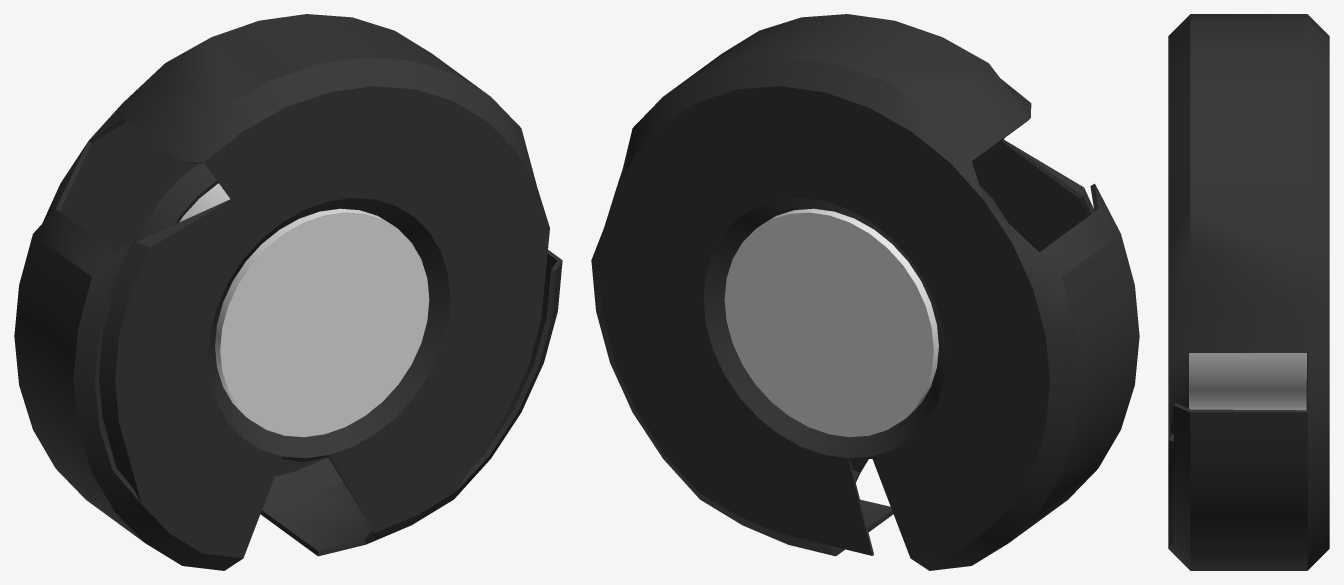
File: Broken Wheel.fbx
3 views of the same model, side by side, from view 1: azimuth 30°, elevation 25°; view 2: azimuth 150°, elevation 25°; view 3: azimuth 270°, elevation 25° (orthographic).
Parts seen in each view (by area): view 1: Velg.Broken; view 2: Velg.Broken; view 3: Velg.Broken.
Boxes of the visible parts, x1,y1,x2,y2 form: Velg.Broken: [14, 14, 562, 570]; Velg.Broken: [591, 14, 1139, 570]; Velg.Broken: [1168, 14, 1329, 570].
Size of the model in its own units: 156 by 150 by 44.8.
